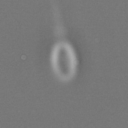normal: (46, 1, 67, 39)
